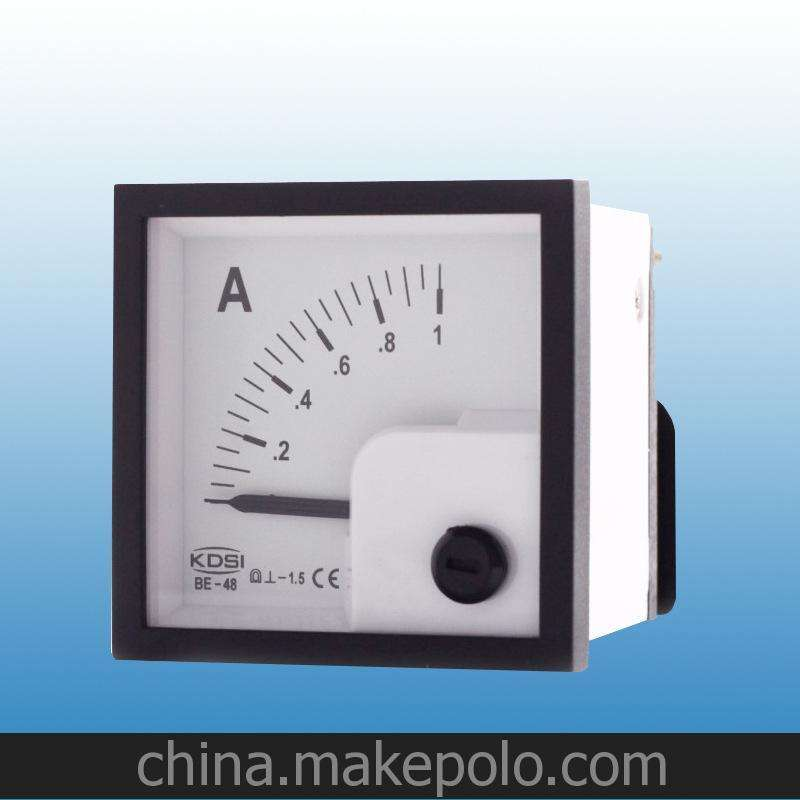pointer: (138, 211, 543, 640)
